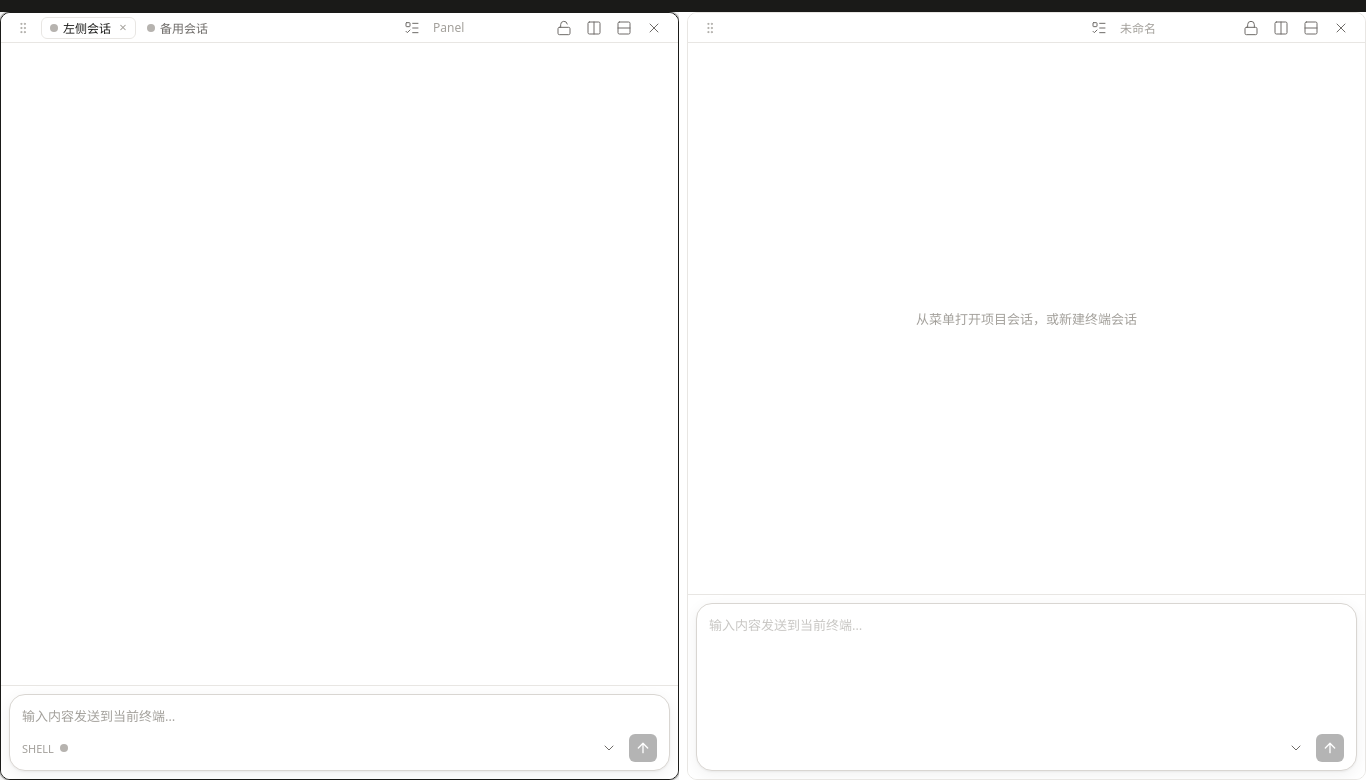
PaneGrid 窗格名称 › 按 Escape 取消名称修改
Double-click the button "Panel" at (488, 28), box left=428, top=16, right=548, bottom=38
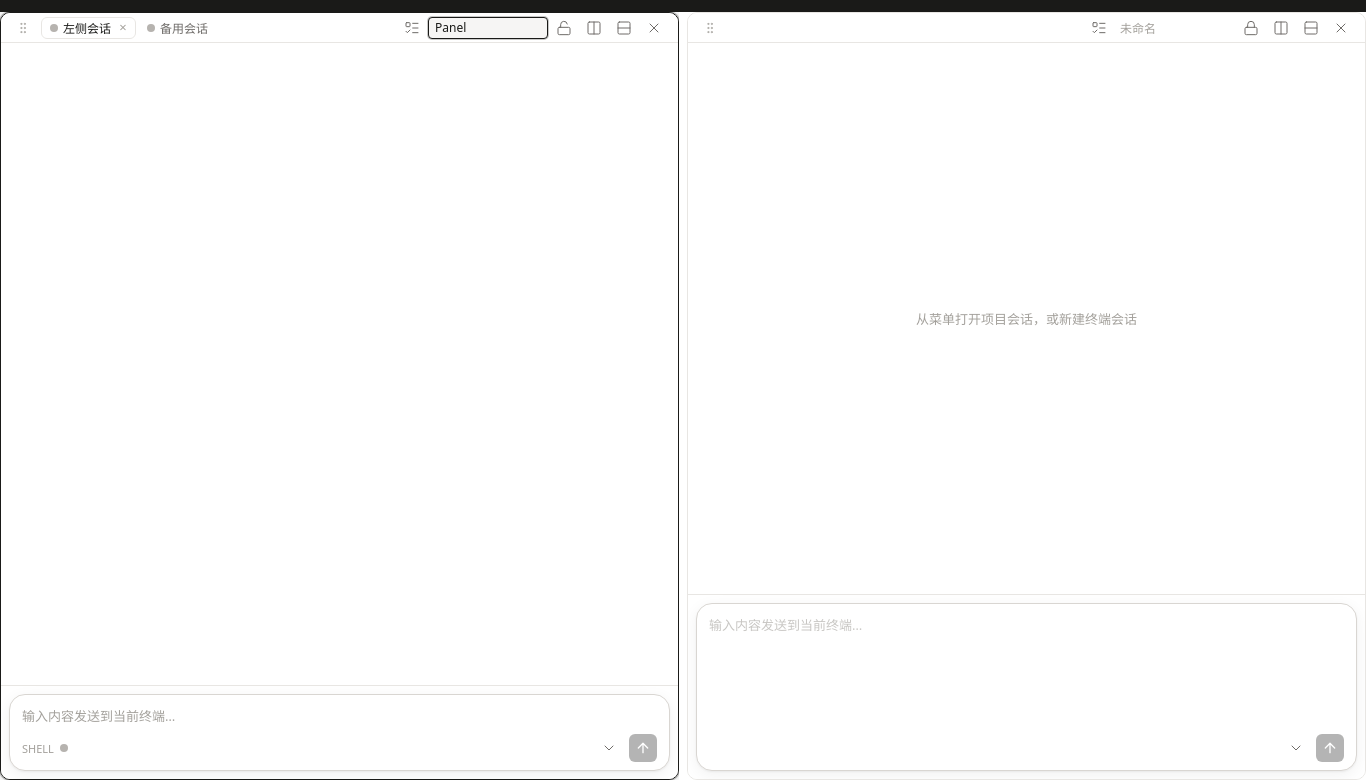
Replace the text in the field named "窗格名称" with "server" at (488, 28), box left=428, top=16, right=548, bottom=38
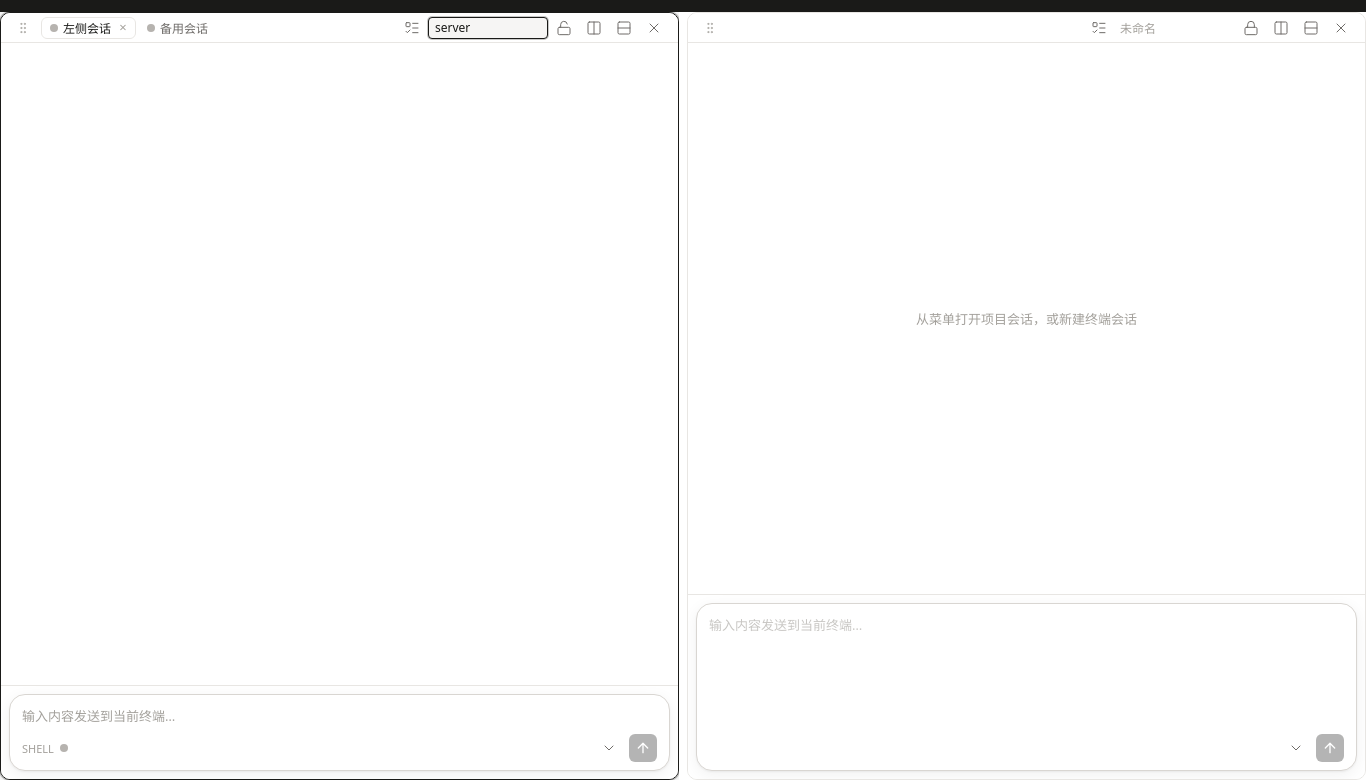
Press Escape in the field named "窗格名称", box left=428, top=16, right=548, bottom=38
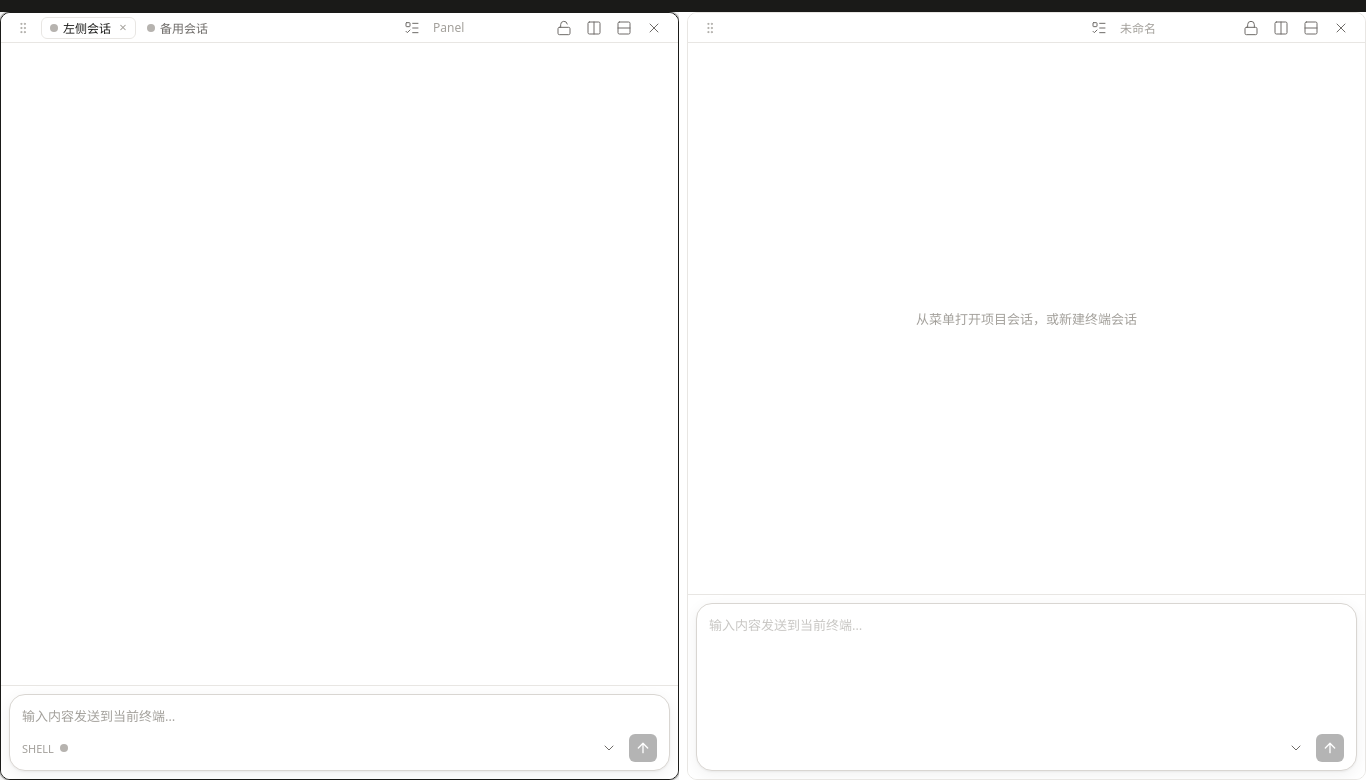
Expected: the button "Panel" is shown, left=428, top=16, right=548, bottom=38
